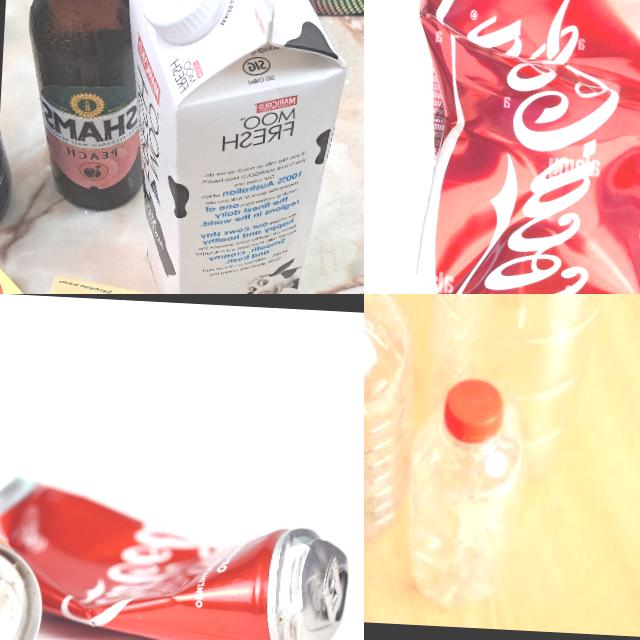aba de lata: (318, 556, 348, 626), (0, 578, 23, 640)
caixinha: (112, 0, 356, 294), (0, 254, 38, 294)
garrafa de vidro: (19, 0, 156, 212)
garrafa plástica: (430, 294, 626, 490), (400, 407, 522, 613), (364, 294, 414, 551)
lata: (398, 0, 640, 294), (0, 471, 351, 640)
tampa plástica: (442, 376, 504, 442), (139, 0, 221, 45)
